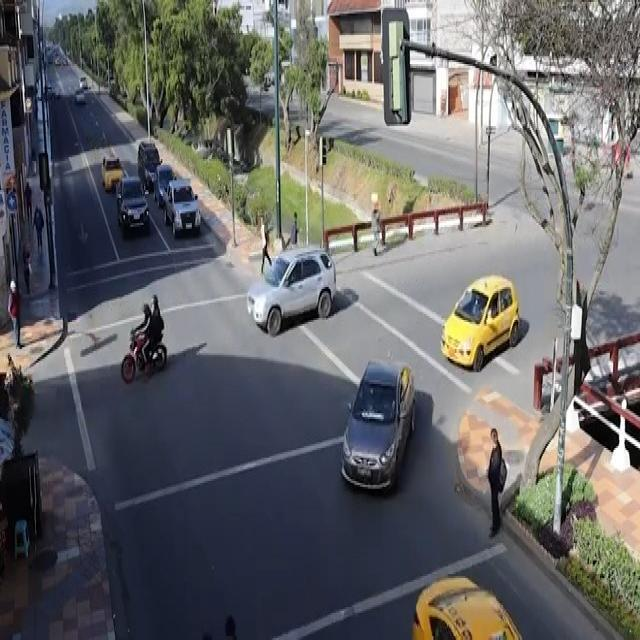CMT: (163, 181, 206, 238)
